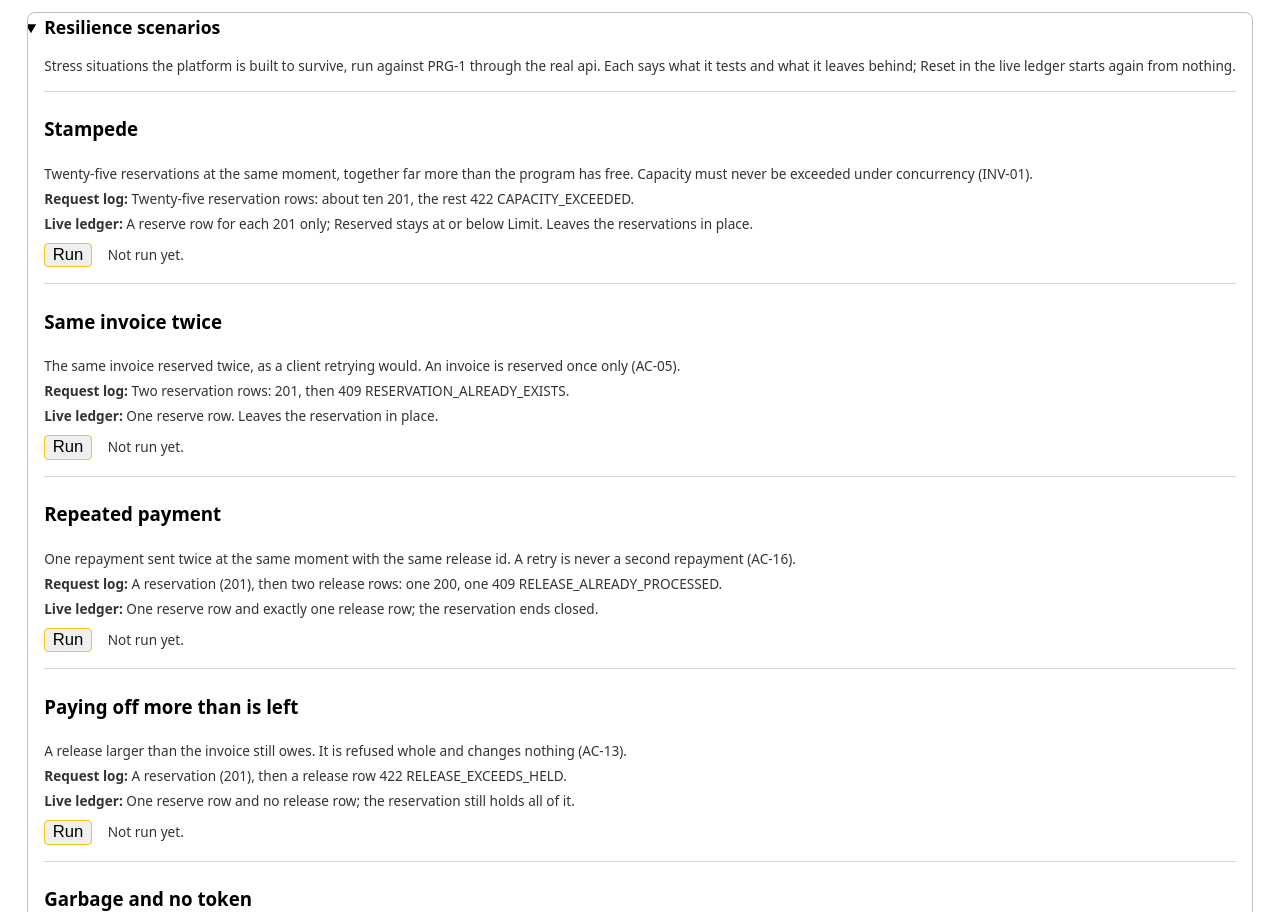
Scenario: ResilienceScenarios › should pass the repeated payment when one release applies and the repeat is refused
Click the button "Run" below "Repeated payment" at (68, 640), box [44,628,92,652]
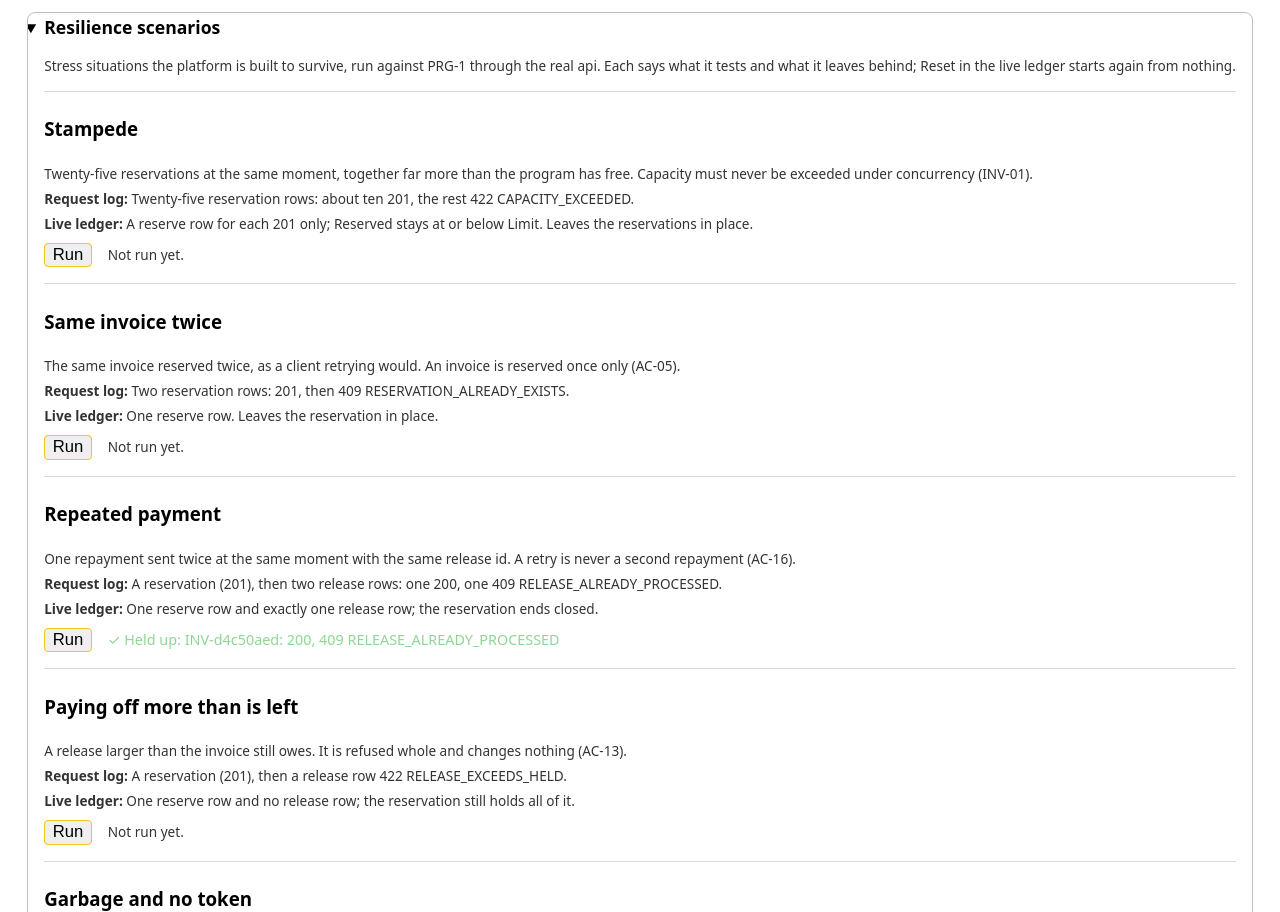
expect the text with test id "outcome" shows "✓": met, box [108,630,560,649]
